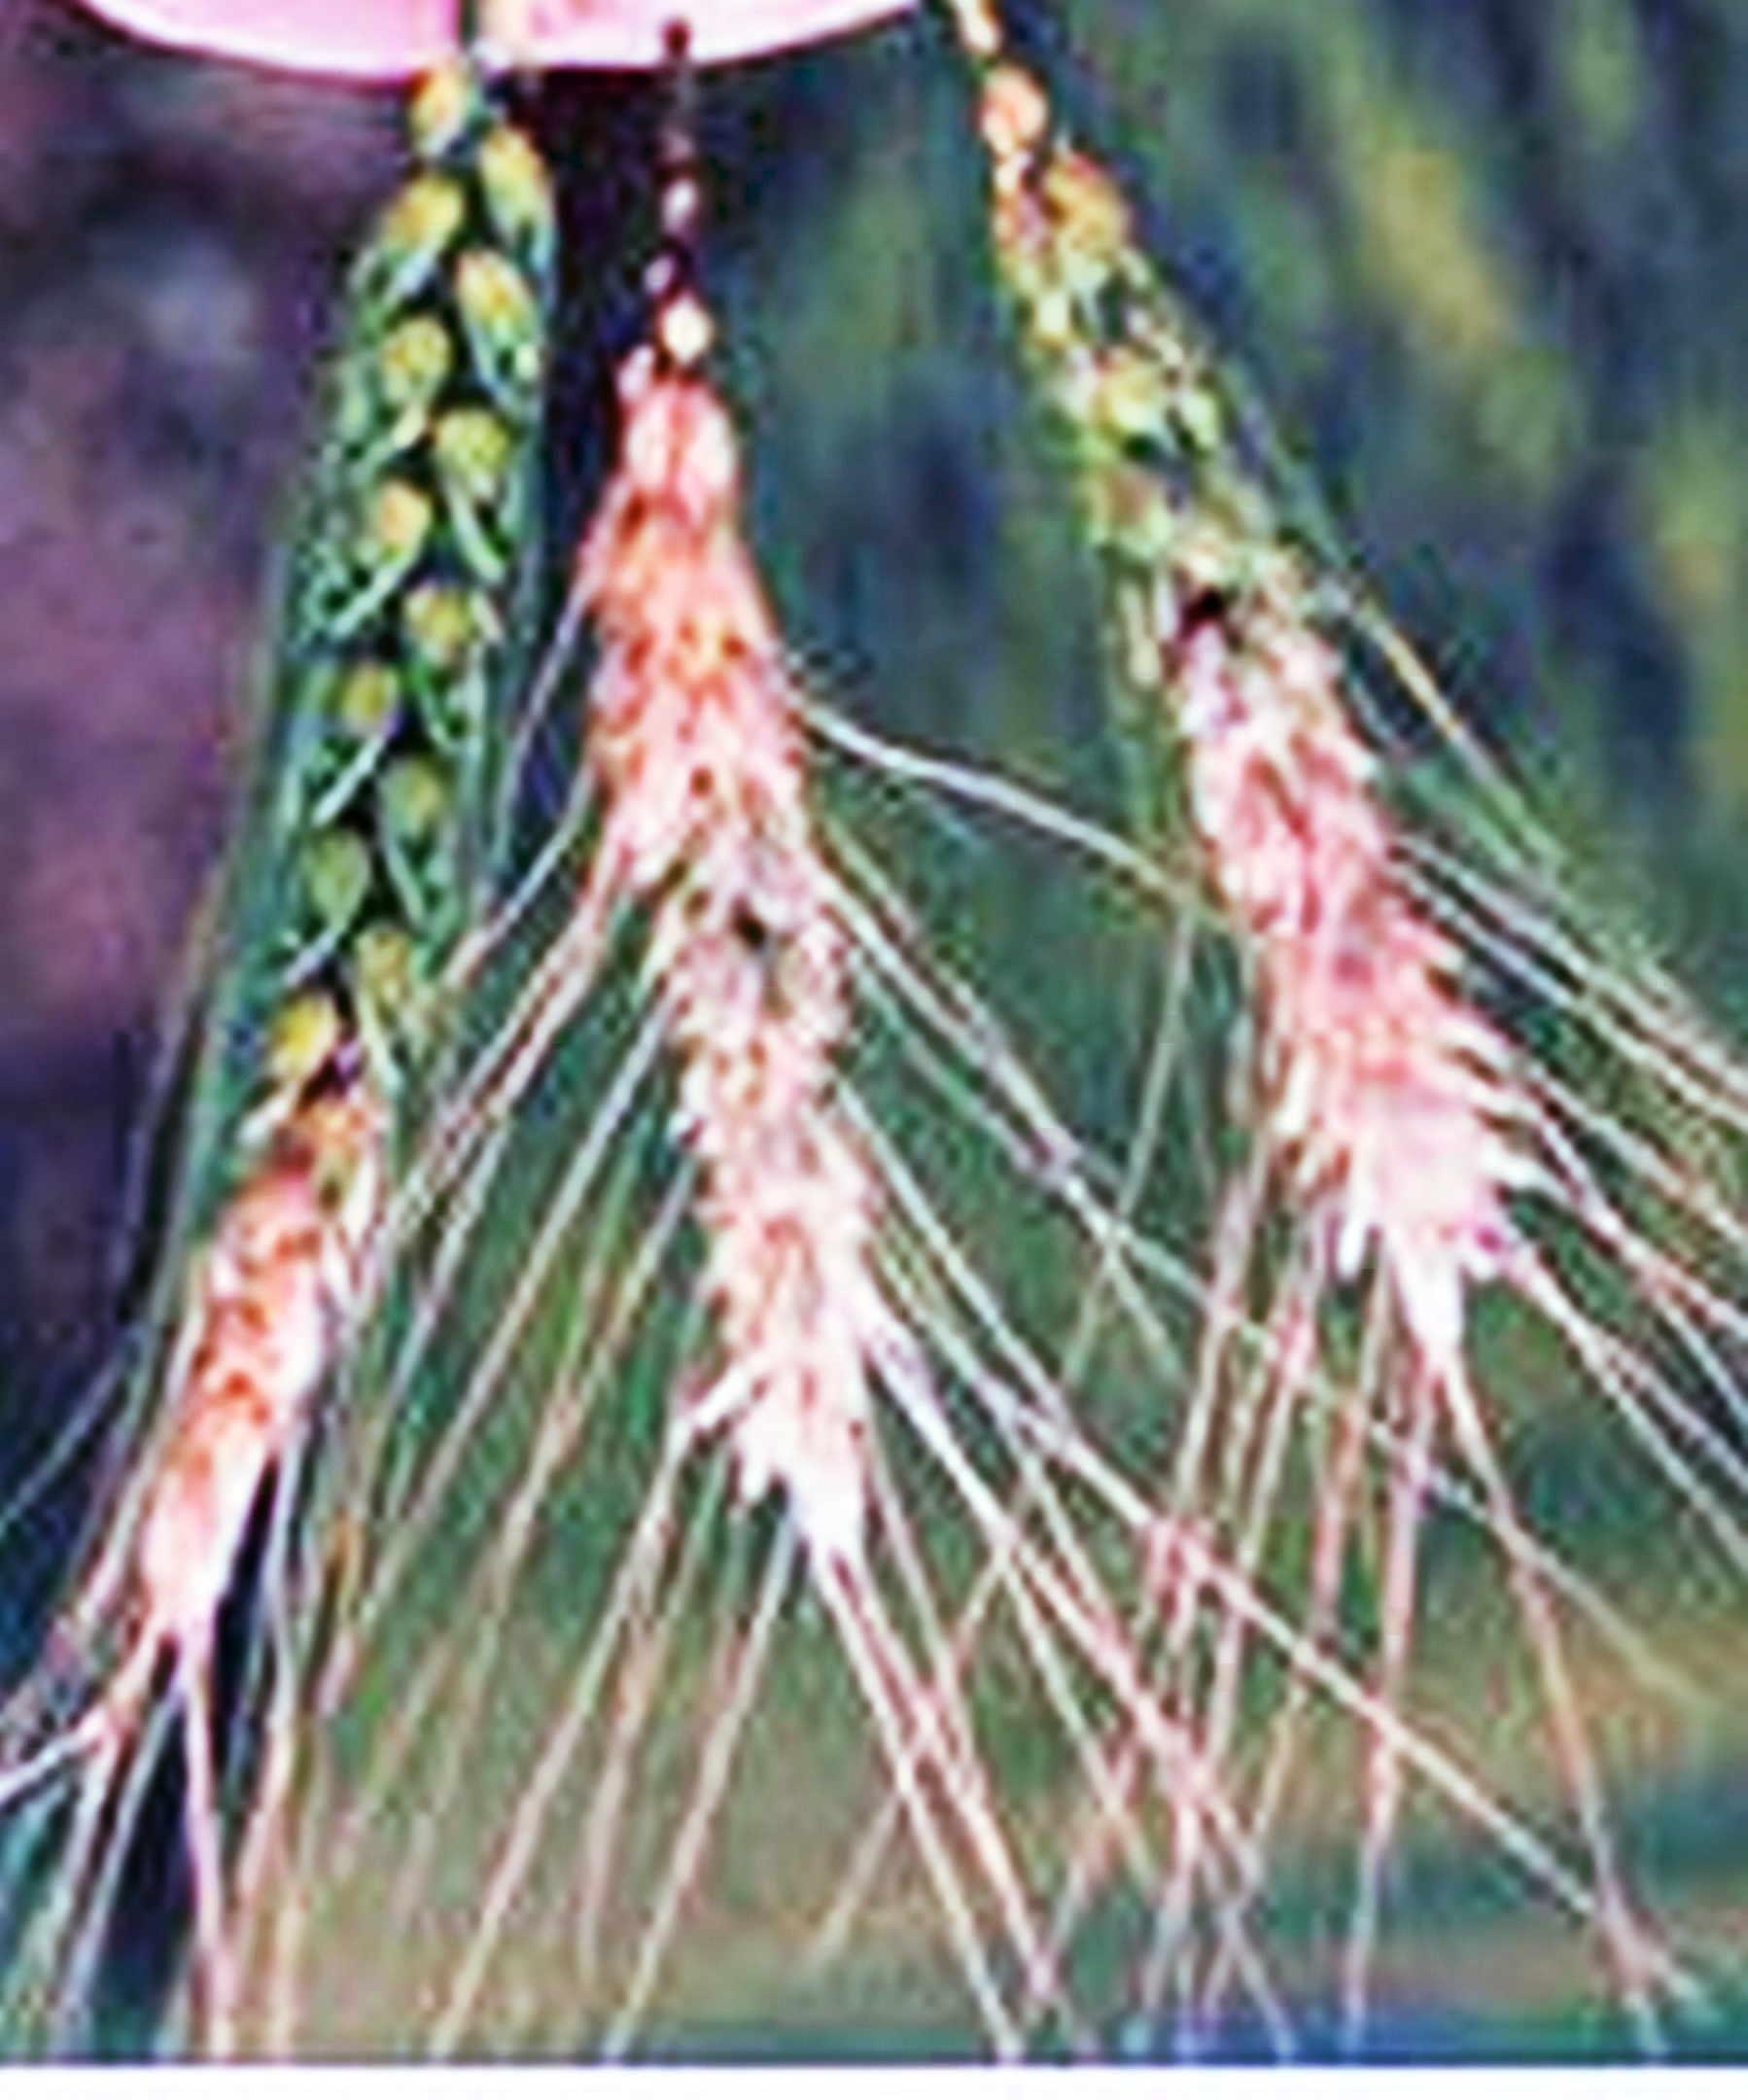Wheat scab: (40, 84, 574, 1606)
